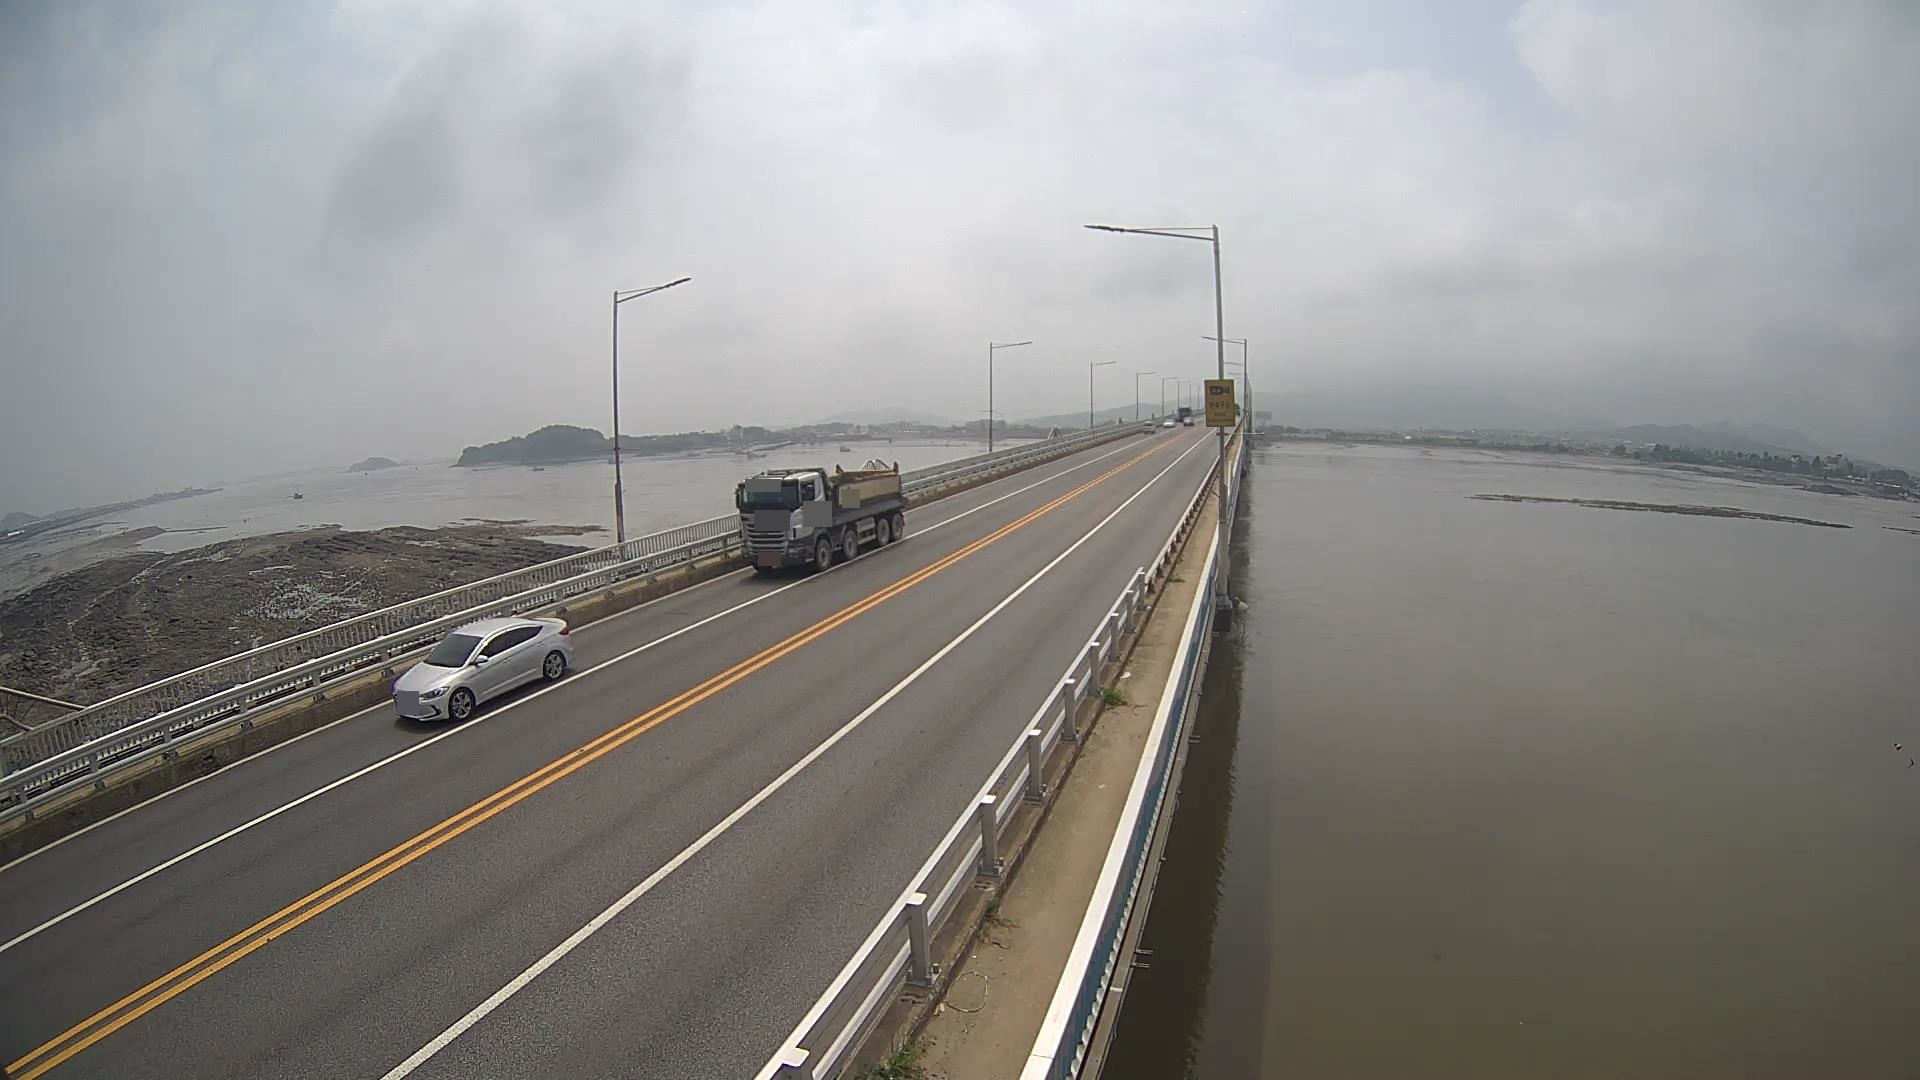정상차량: (735, 462, 904, 570)
